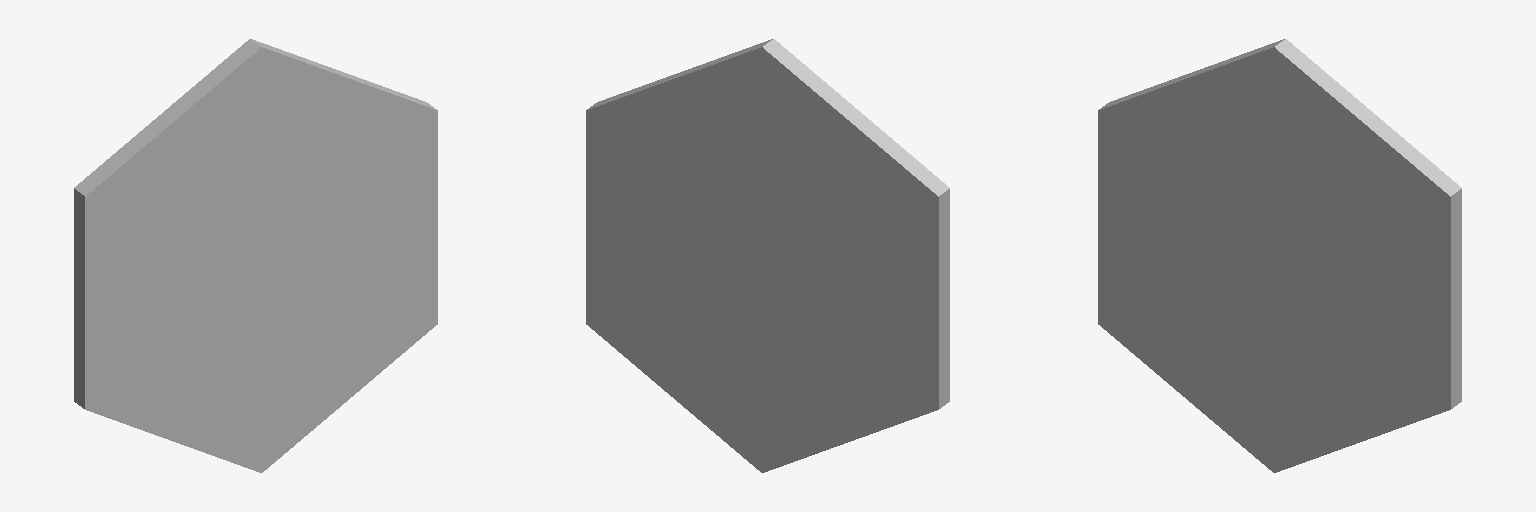
Rendered from Space_Launcher.obj.
The picture shows the model from 3 angles: view 1: azimuth 30°, elevation 25°; view 2: azimuth 150°, elevation 25°; view 3: azimuth 330°, elevation 25°; orthographic projection.
Parts seen in each view (by area): view 1: obj1; view 2: obj1; view 3: obj1.
Boxes of the visible parts, x1=… form: obj1: x1=74, y1=39, x2=437, y2=472; obj1: x1=586, y1=39, x2=949, y2=472; obj1: x1=1098, y1=39, x2=1461, y2=472.
Size of the model in its own units: 0.4434 by 0.512 by 0.0256.